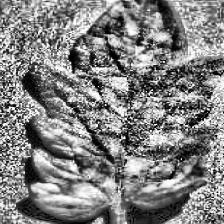leaf mold: (27, 0, 224, 219)
